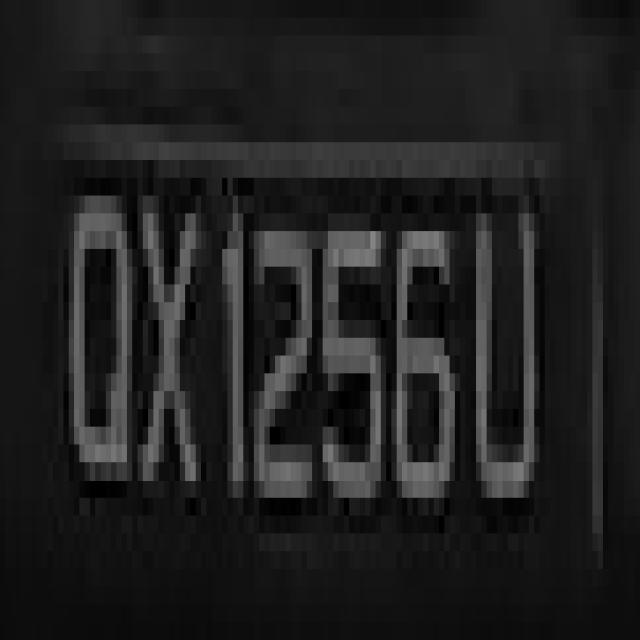1: (206, 142, 254, 587)
2: (244, 124, 318, 534)
5: (318, 142, 392, 569)
6: (386, 178, 455, 604)
Q: (53, 124, 137, 534)
U: (455, 160, 550, 551)
X: (127, 124, 206, 534)
